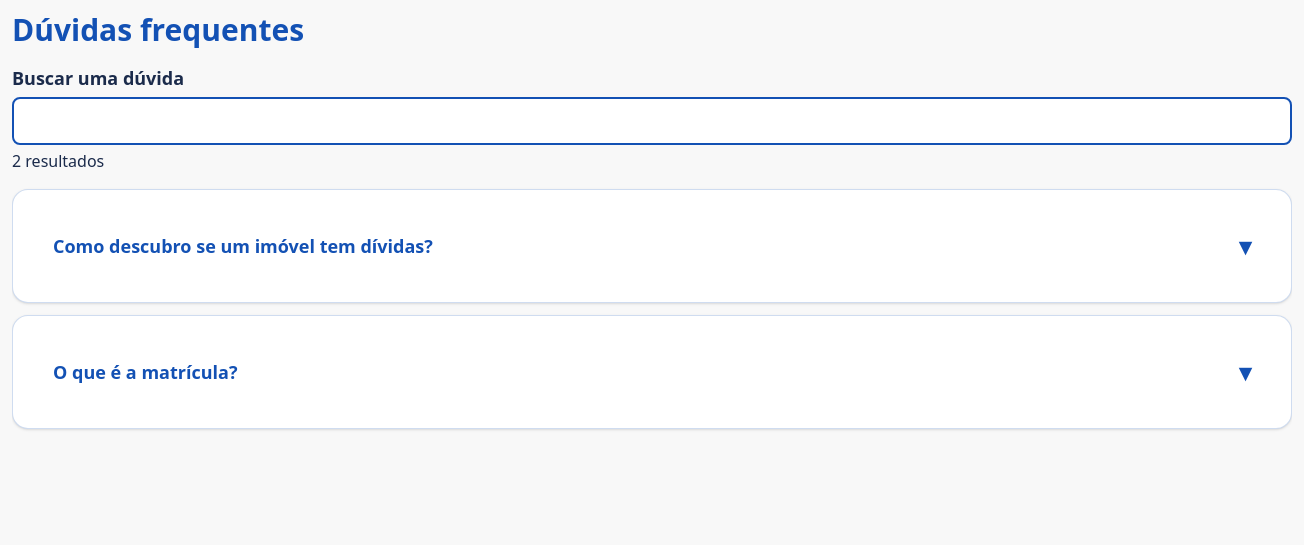
Scenario: Faq (4 estados de tela) › sucesso: lista as perguntas e abre/fecha a resposta (aria-expanded)
The width and height of the screenshot is (1304, 545).
Click the button "O que é a matrícula? ▾".
click(145, 372)  # box left=37, top=340, right=1267, bottom=404
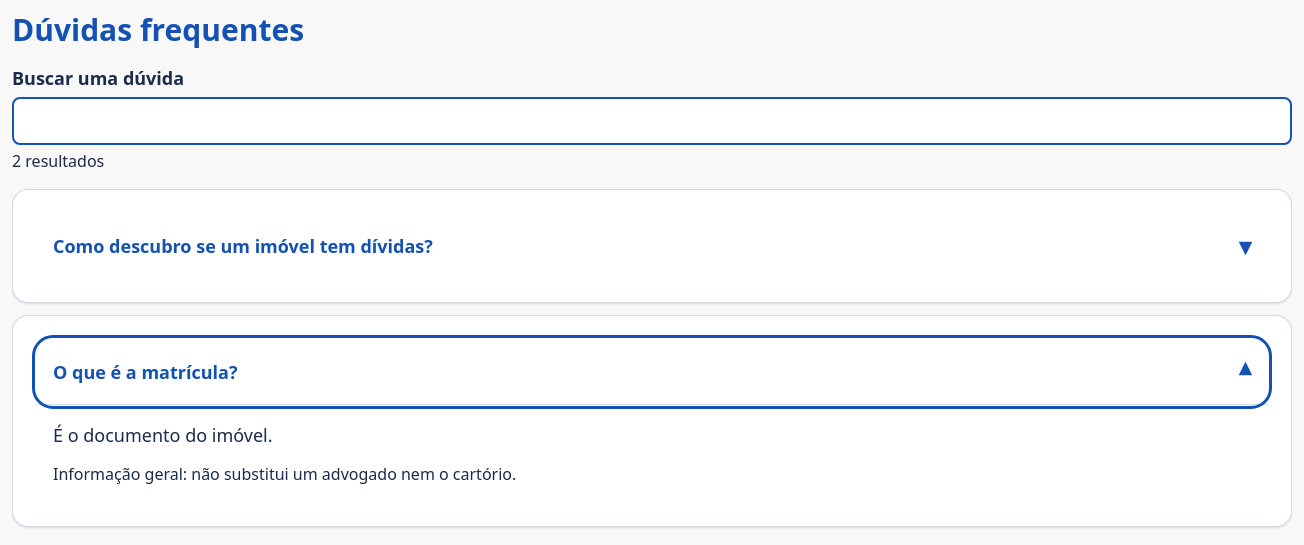
Now the button "O que é a matrícula? ▾" is expanded, box left=37, top=340, right=1267, bottom=404
Now the text "É o documento do imóvel." is shown, box left=53, top=423, right=273, bottom=447
